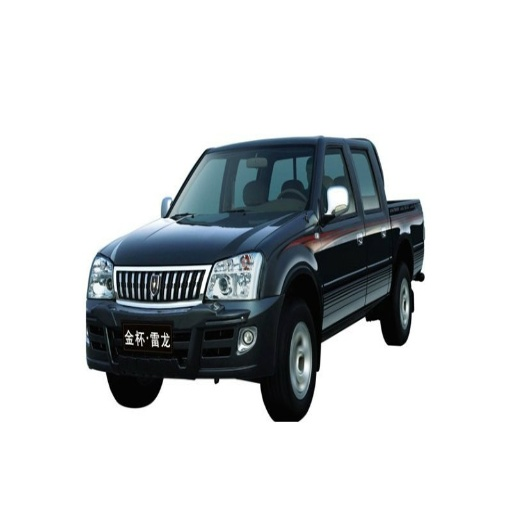front_bumper: (84, 263, 281, 379)
front_glass: (166, 144, 315, 223)
front_left_door: (317, 145, 366, 317)
